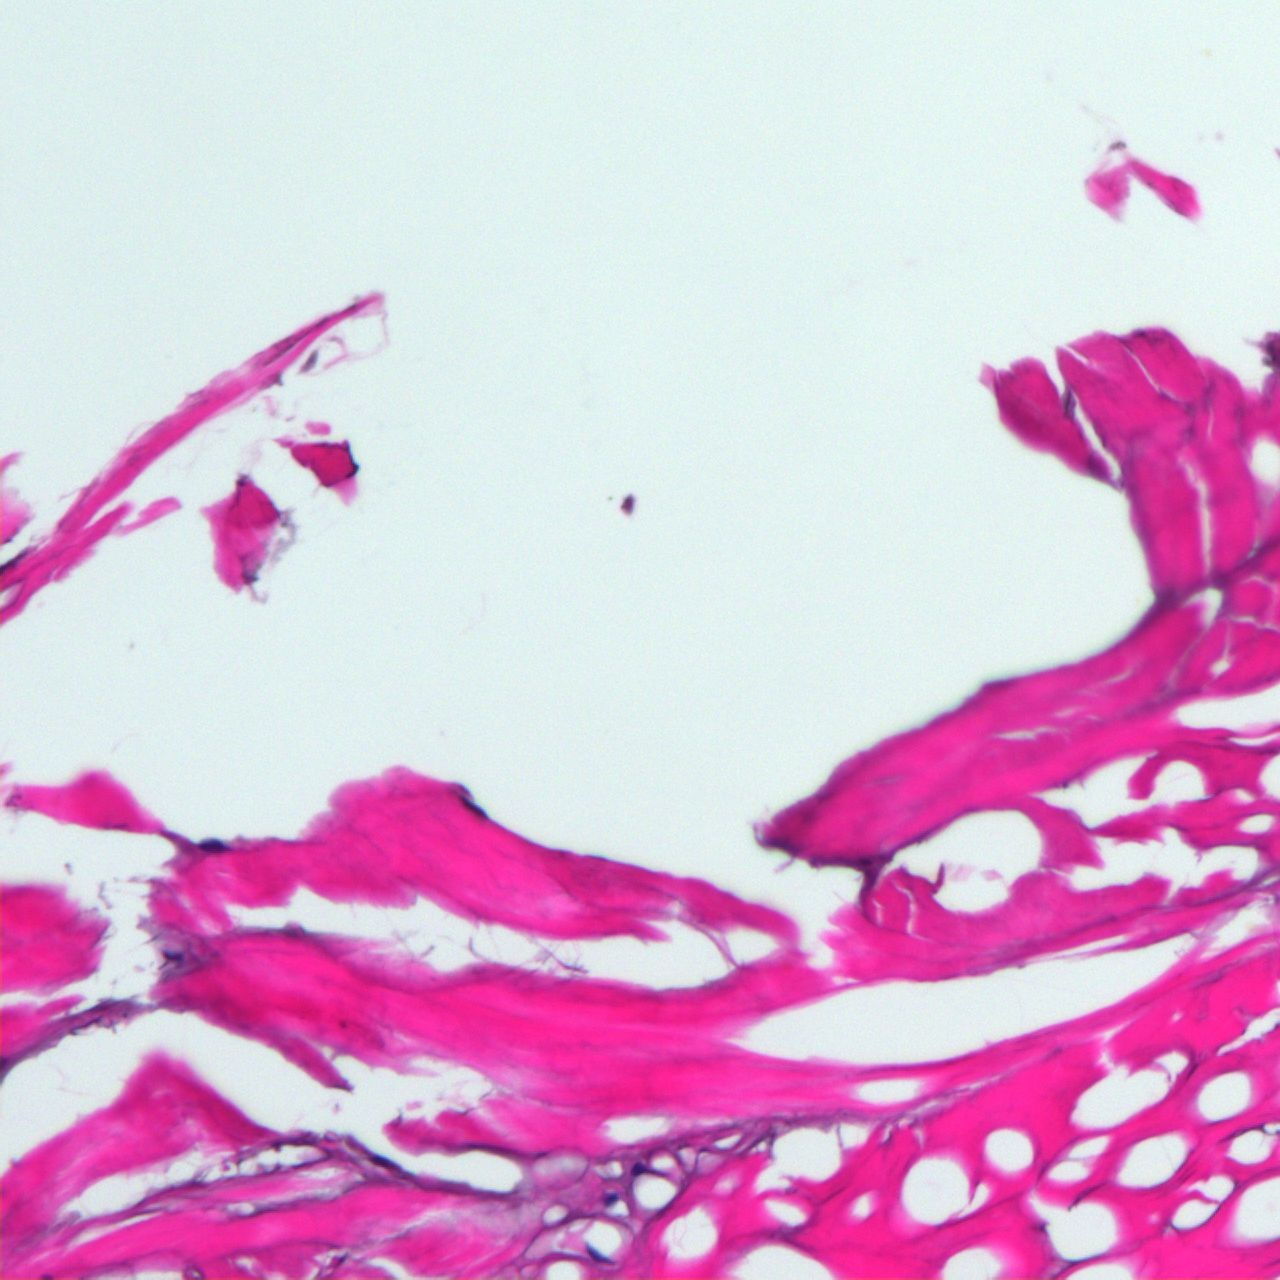nucleus-HE: (583, 1245, 611, 1268), (464, 797, 489, 819), (373, 1152, 400, 1172), (200, 838, 229, 851), (629, 1160, 646, 1178), (602, 1191, 619, 1207), (164, 951, 182, 961), (1040, 1224, 1044, 1232)
